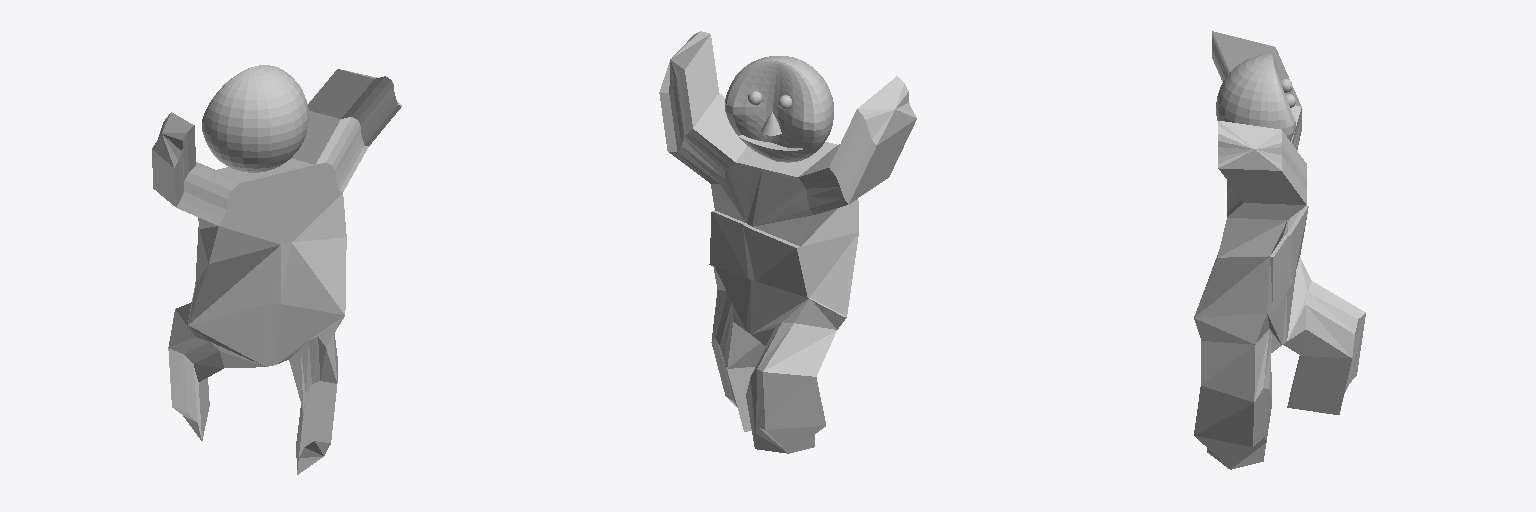
File: man_000022.obj
3 renders of one model, left to right at view 1: azimuth 30°, elevation 25°; view 2: azimuth 150°, elevation 25°; view 3: azimuth 270°, elevation 25°, orthographic.
Parts seen in each view (by area): view 1: Cube; view 2: Cube; view 3: Cube.
Part boxes in pixels (left/top/right/bottom): Cube: left=152, top=65, right=401, bottom=474; Cube: left=659, top=31, right=916, bottom=453; Cube: left=1194, top=31, right=1365, bottom=469.
Bounding box in the file's own units: 79.08 × 127 × 51.09.